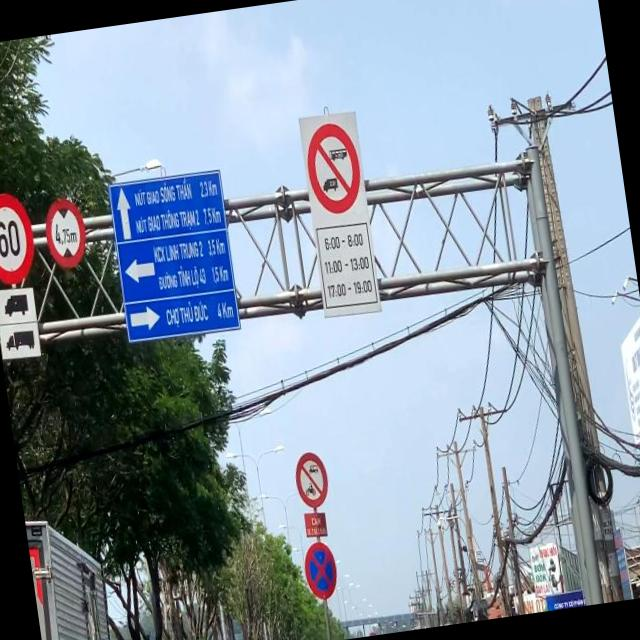P-117: (45, 196, 90, 268)
P-130: (301, 539, 341, 603)
